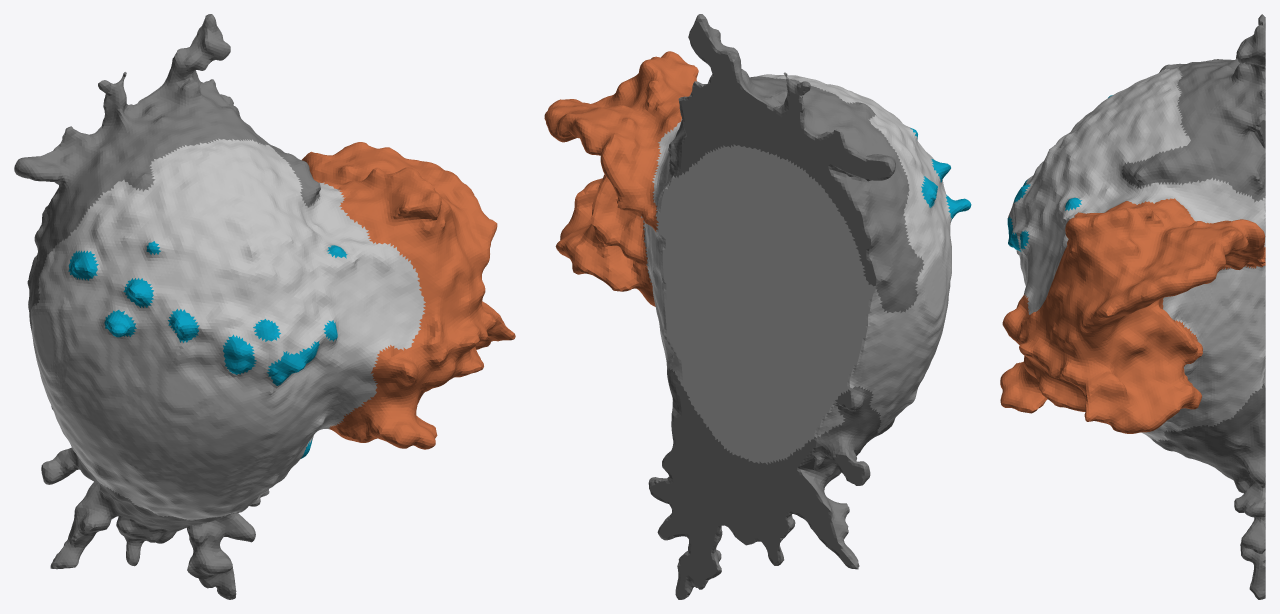
3 views of the same model, side by side, from view 1: azimuth 30°, elevation 25°; view 2: azimuth 150°, elevation 25°; view 3: azimuth 270°, elevation 25° (orthographic). The views are drawn at different scales.
Bounding box in the file's own units: 118 × 160 × 68.33.
